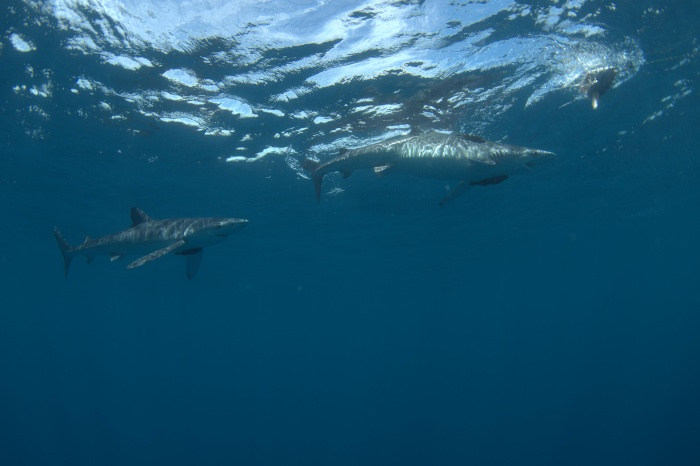Azul: (283, 108, 586, 210), (36, 208, 298, 295)
